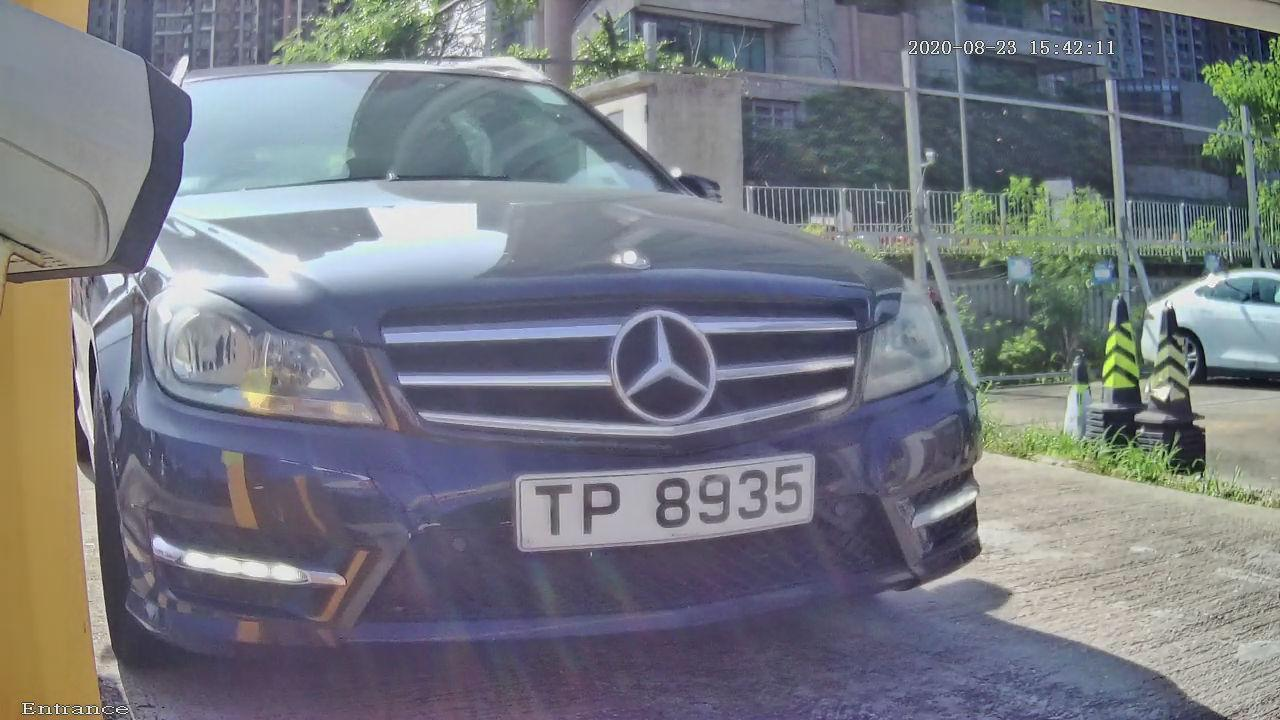Car: (58, 20, 1052, 698)
License Plate: (446, 412, 892, 588)
